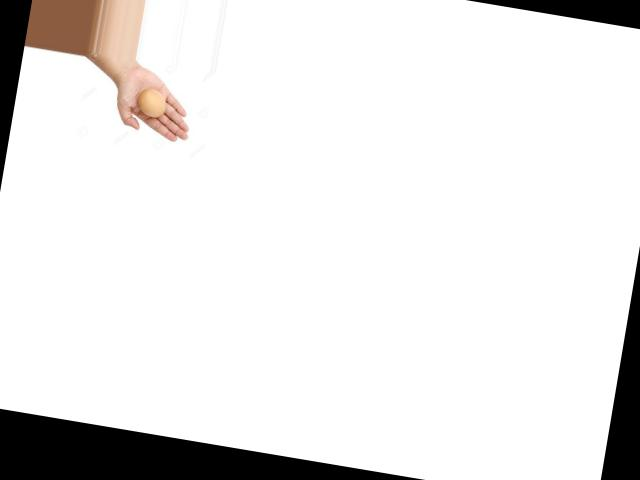egg: (134, 86, 167, 118)
